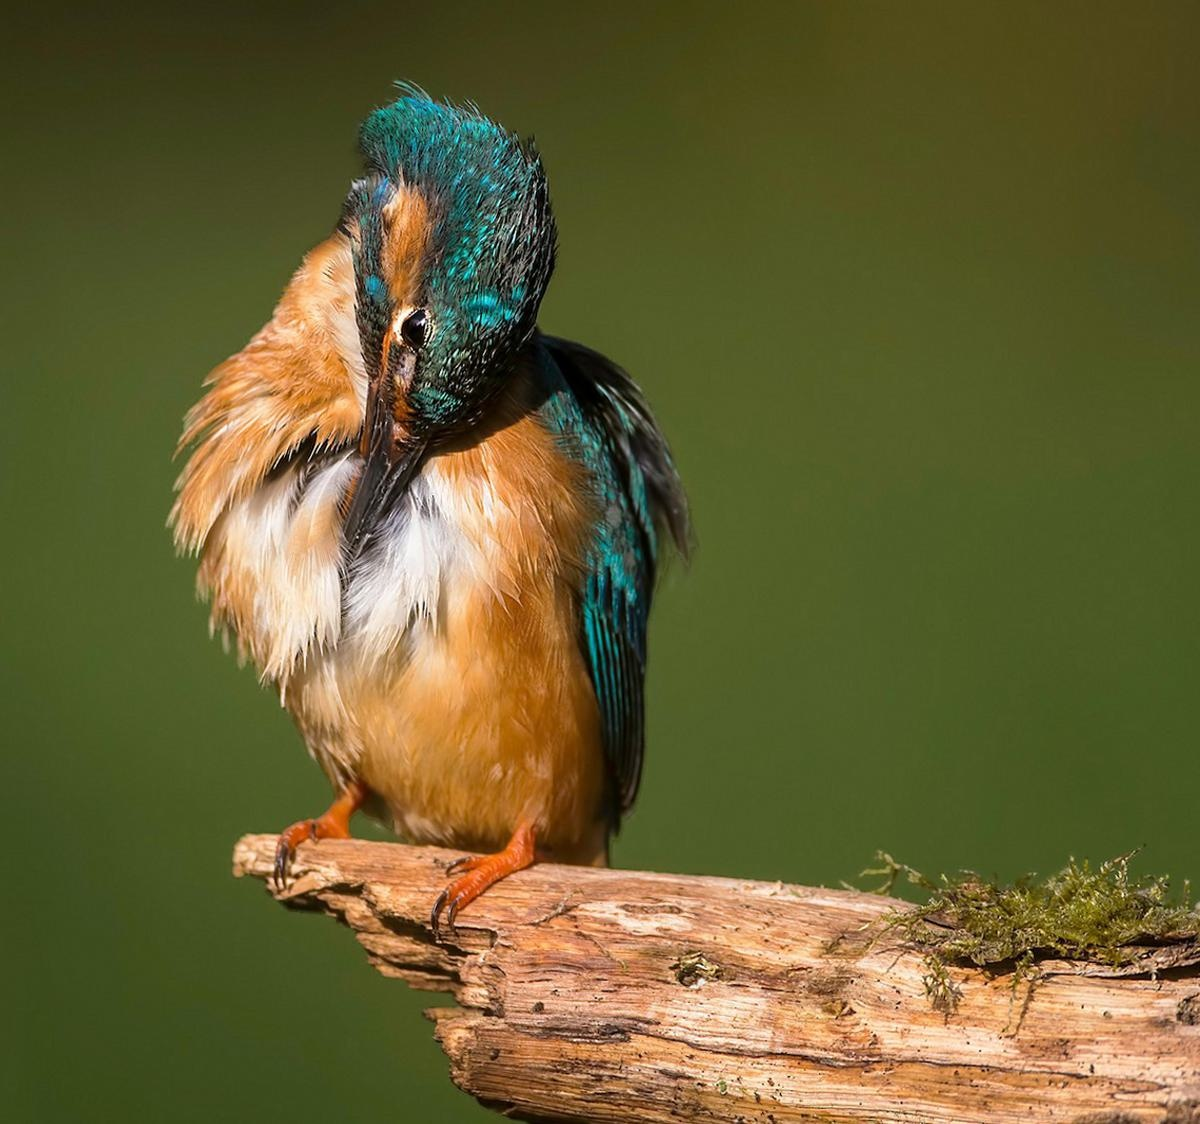kingfisher: (165, 79, 682, 900)
